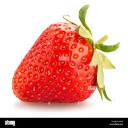strawberry: (10, 12, 118, 104)
